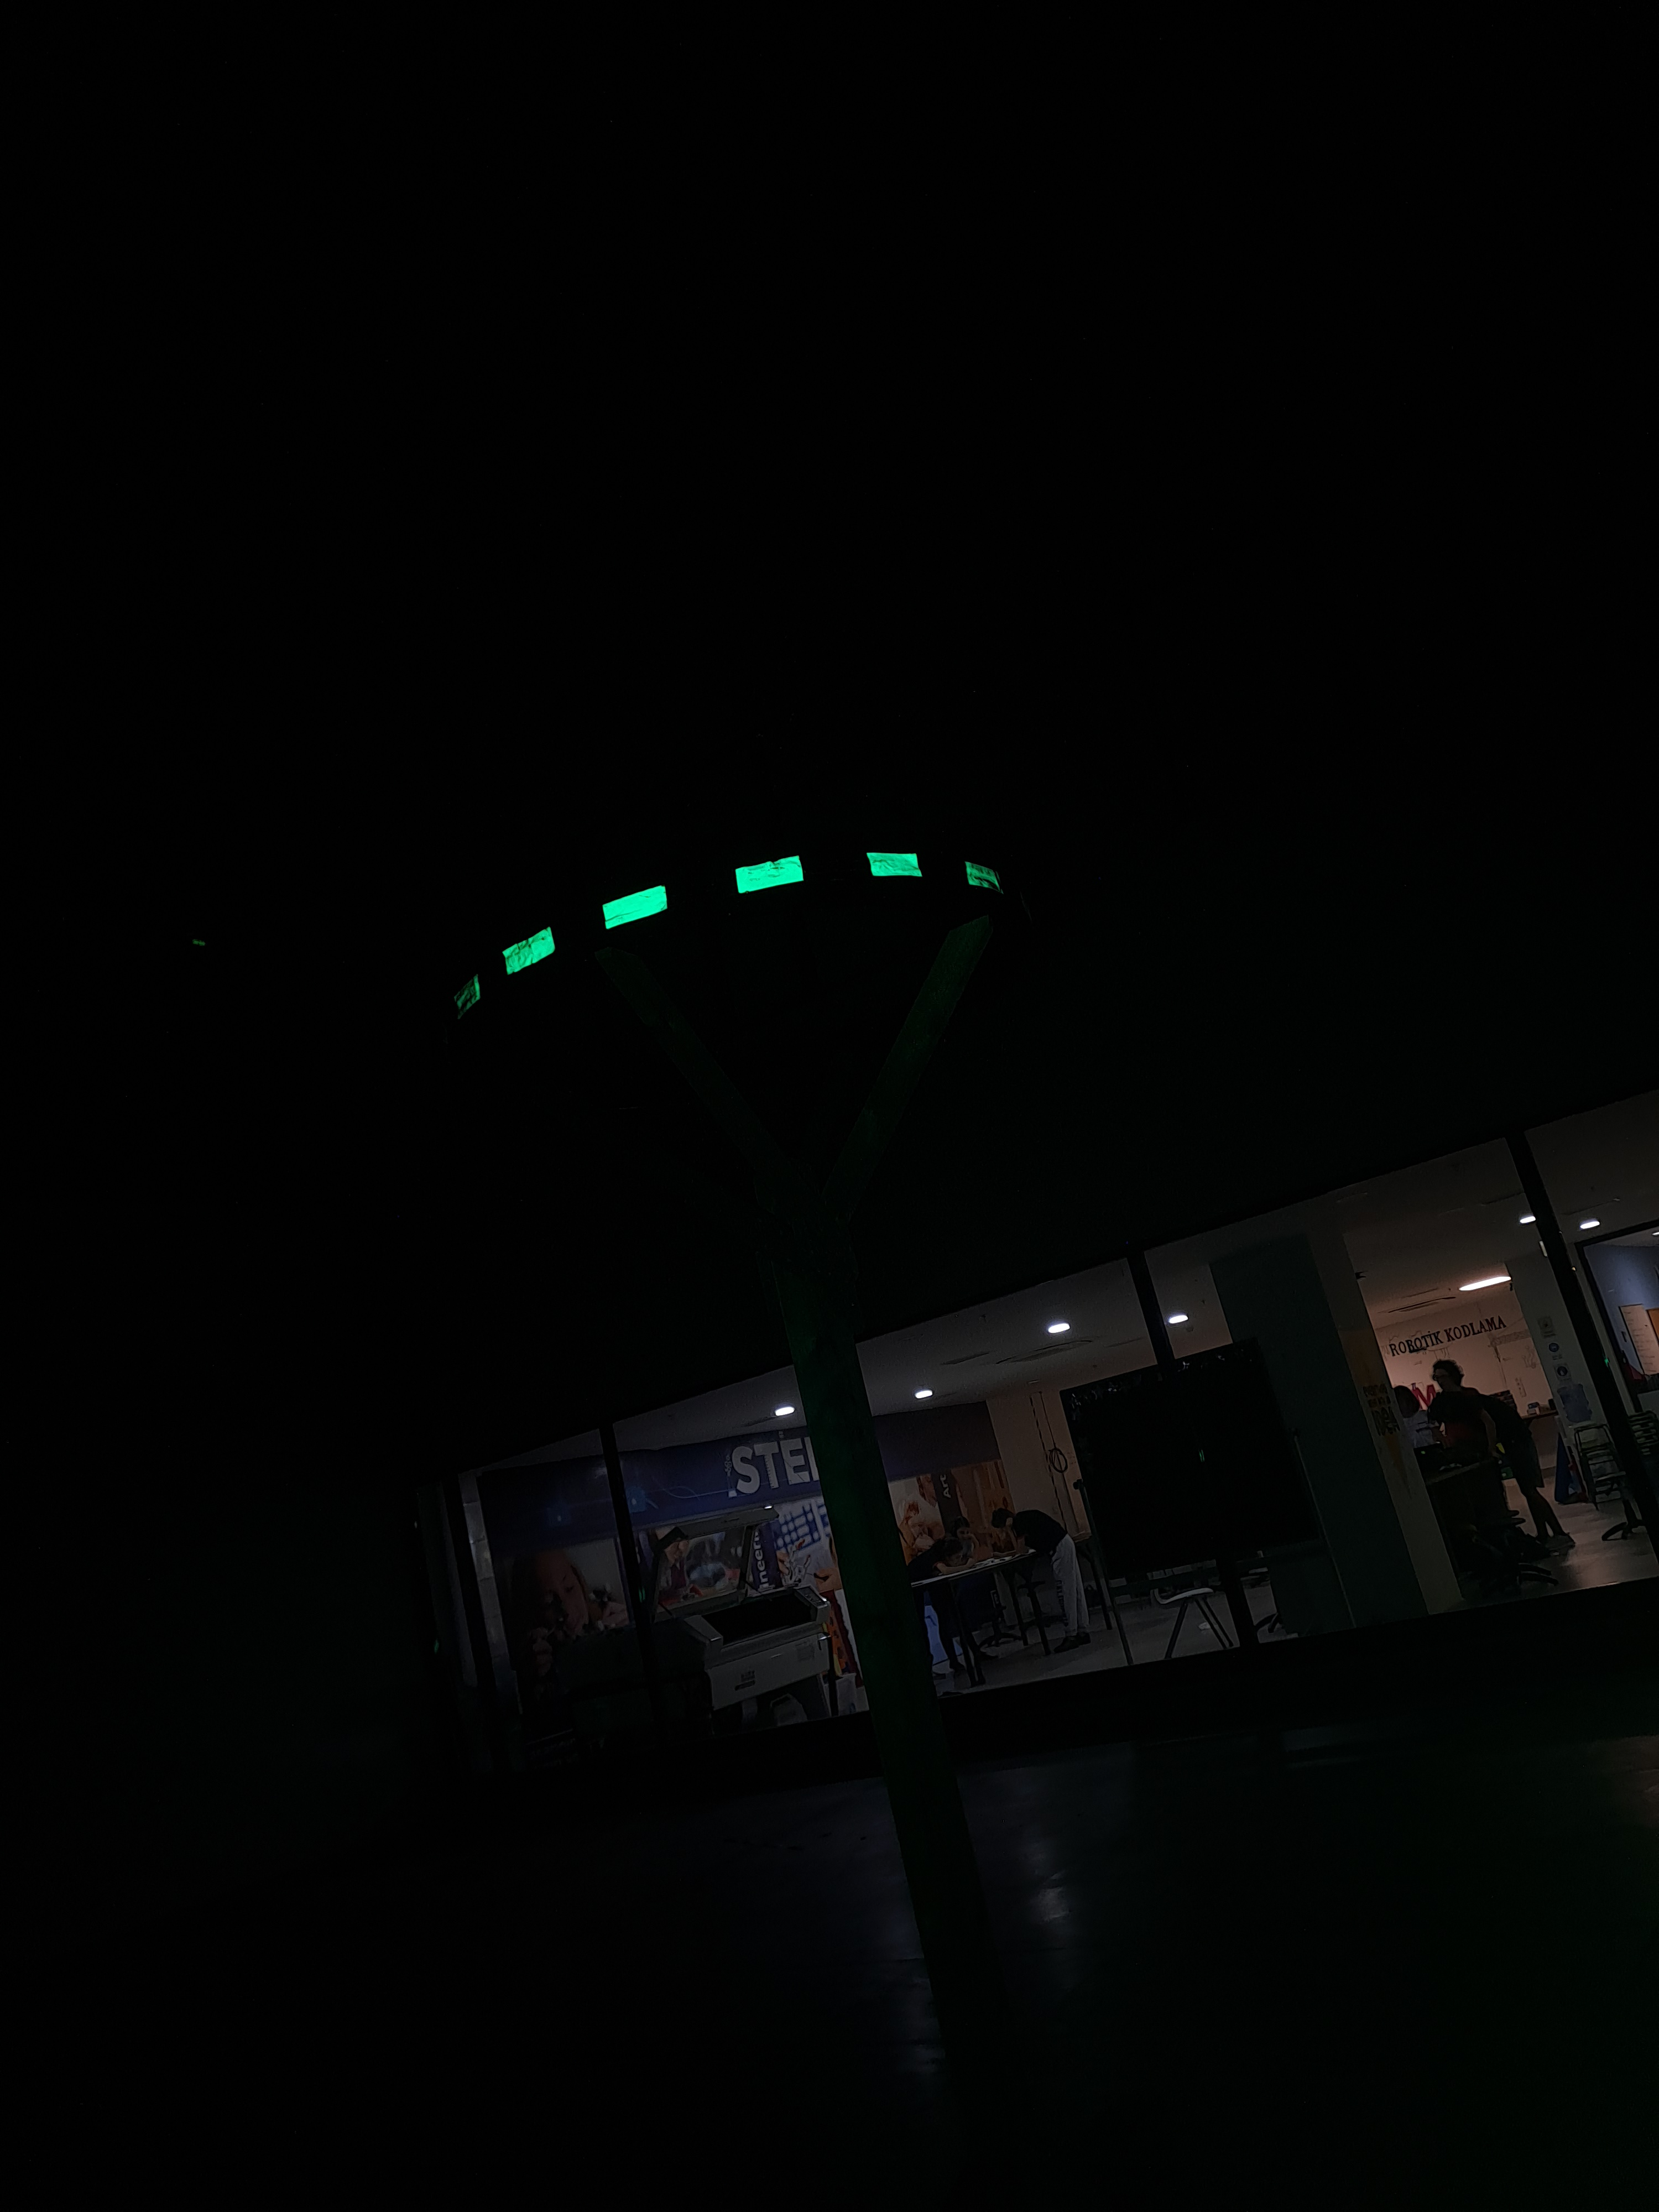hoop: (448, 846, 1011, 1015)
